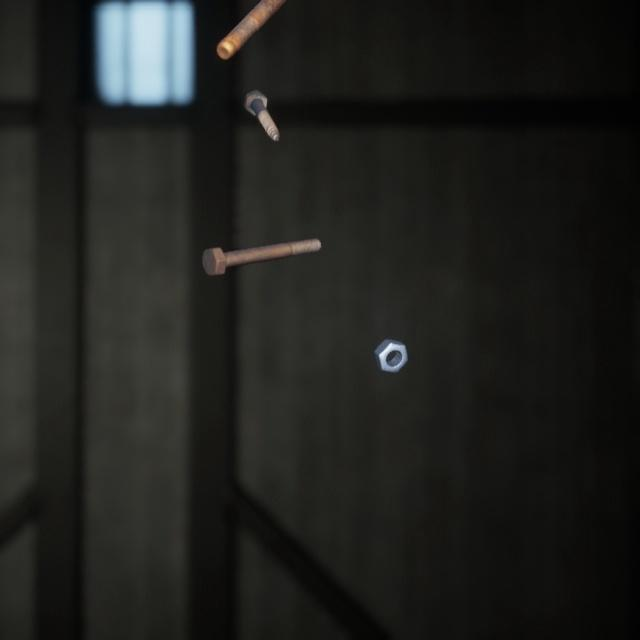bolt: (197, 217, 325, 263), (212, 0, 285, 55), (239, 73, 284, 132)
nut: (369, 316, 412, 359)
